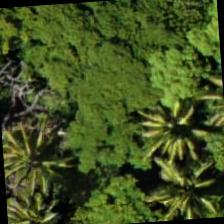Kelapa_Sawit: (139, 78, 223, 175), (134, 134, 223, 222), (0, 113, 77, 208), (4, 175, 84, 223)
